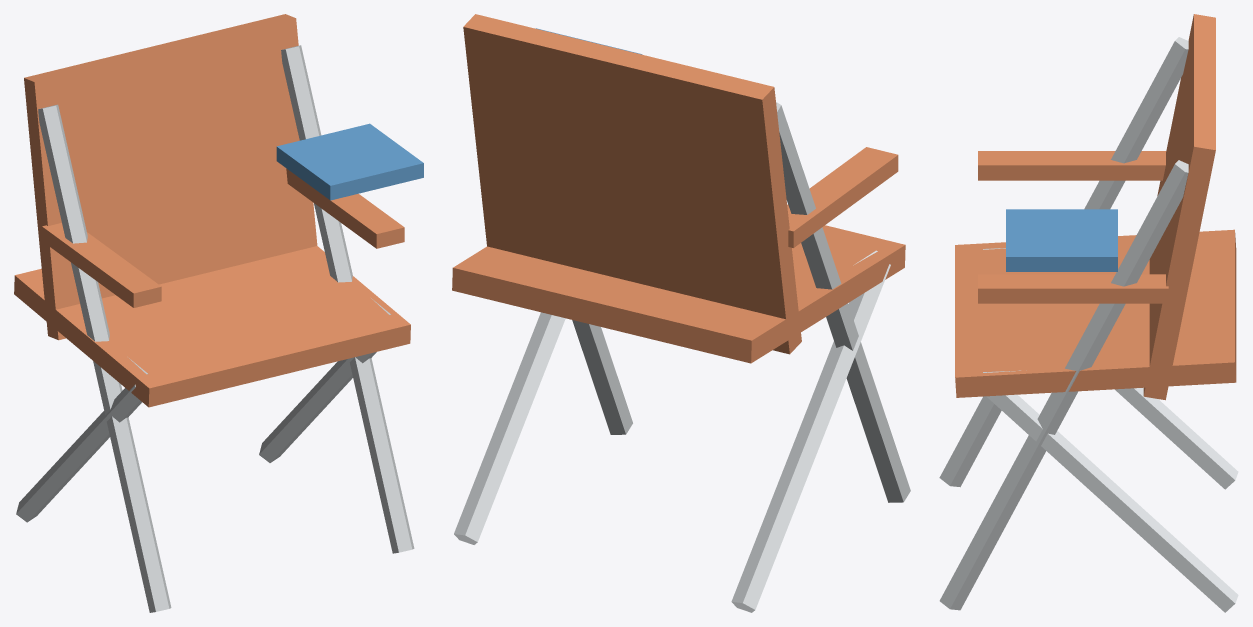
The model's file is caravan-park-and-campsite-camping-chair-390fe145.glb.
The picture shows the model from 3 angles, left to right: view 1: azimuth 30°, elevation 25°; view 2: azimuth 150°, elevation 25°; view 3: azimuth 270°, elevation 25°; orthographic projection. The views are drawn at different scales.
Visible parts, largest first — view 1: camping-chair-flame, camping-chair-galv, camping-chair-azure; view 2: camping-chair-flame, camping-chair-galv; view 3: camping-chair-flame, camping-chair-galv, camping-chair-azure.
Boxes of the visible parts, left/top/right/bottom form: camping-chair-flame: left=14, top=14, right=410, bottom=407; camping-chair-galv: left=16, top=45, right=414, bottom=612; camping-chair-azure: left=276, top=123, right=423, bottom=200; camping-chair-flame: left=452, top=14, right=905, bottom=363; camping-chair-galv: left=454, top=102, right=910, bottom=612; camping-chair-flame: left=955, top=14, right=1236, bottom=400; camping-chair-galv: left=939, top=37, right=1238, bottom=612; camping-chair-azure: left=1006, top=209, right=1117, bottom=271.
Bounding box in the file's own units: 0.65 × 0.9243 × 0.5336.
